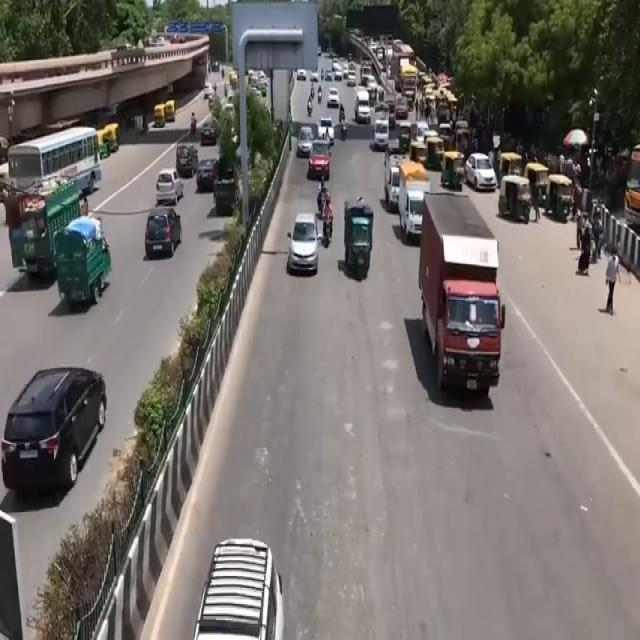BUS: (8, 128, 102, 191)
MOTORCYCLE: (323, 208, 332, 248)
SED: (286, 208, 318, 278)
SUV: (5, 367, 109, 498)
TRUCK: (424, 199, 506, 401), (13, 188, 89, 272), (56, 229, 111, 302), (400, 165, 430, 243)
